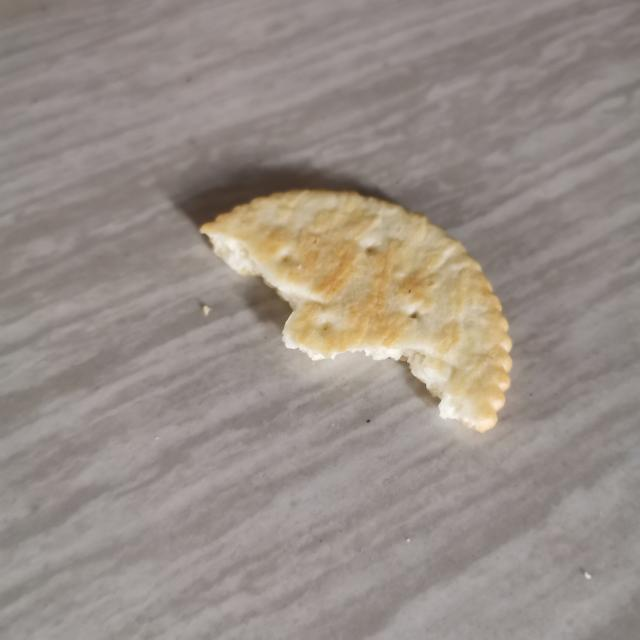Broken: (198, 186, 514, 434)
